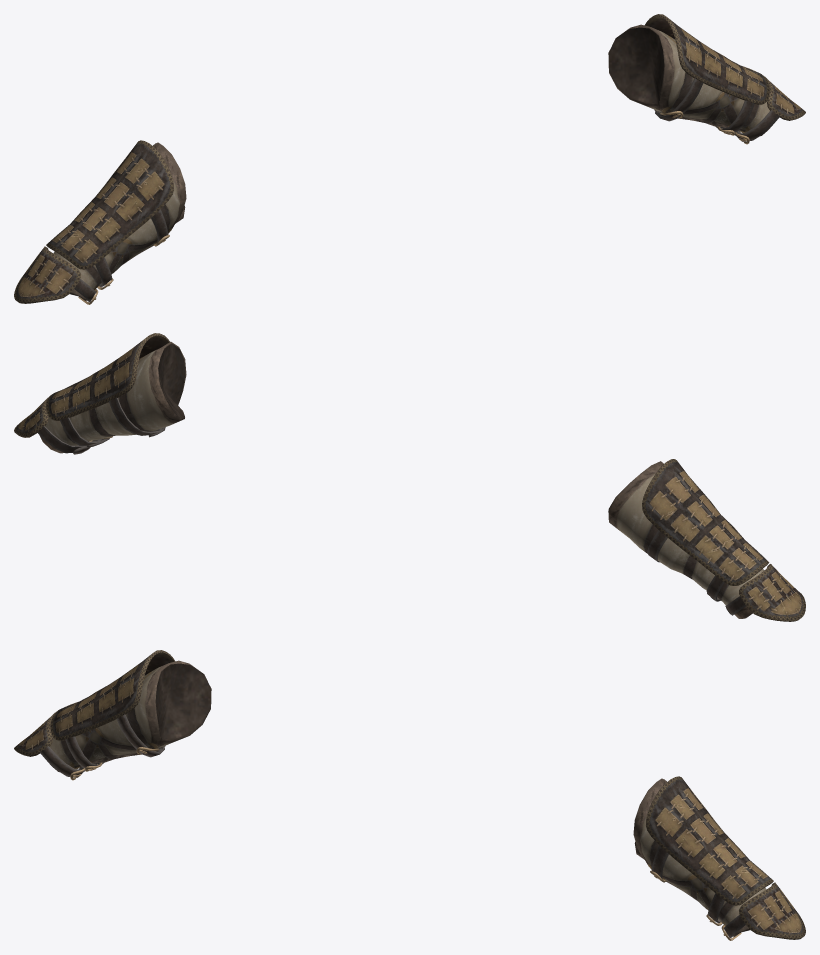
File: dunland_wulf_bracer_heavy_b.fbx
3 renders of one model, top to bottom at view 1: azimuth 30°, elevation 25°; view 2: azimuth 150°, elevation 25°; view 3: azimuth 330°, elevation 25°, orthographic.
Visible parts, largest first — view 1: dunland_wulf_bracer_heavy_b; view 2: dunland_wulf_bracer_heavy_b; view 3: dunland_wulf_bracer_heavy_b.
Boxes of the visible parts, x1,y1,x2,y2 form: dunland_wulf_bracer_heavy_b: (14, 14, 805, 304); dunland_wulf_bracer_heavy_b: (14, 333, 805, 621); dunland_wulf_bracer_heavy_b: (14, 650, 805, 940).
Bounding box in the file's own units: 1.49 × 0.1414 × 0.2511.
Materials: 1 (1 with a texture image).
